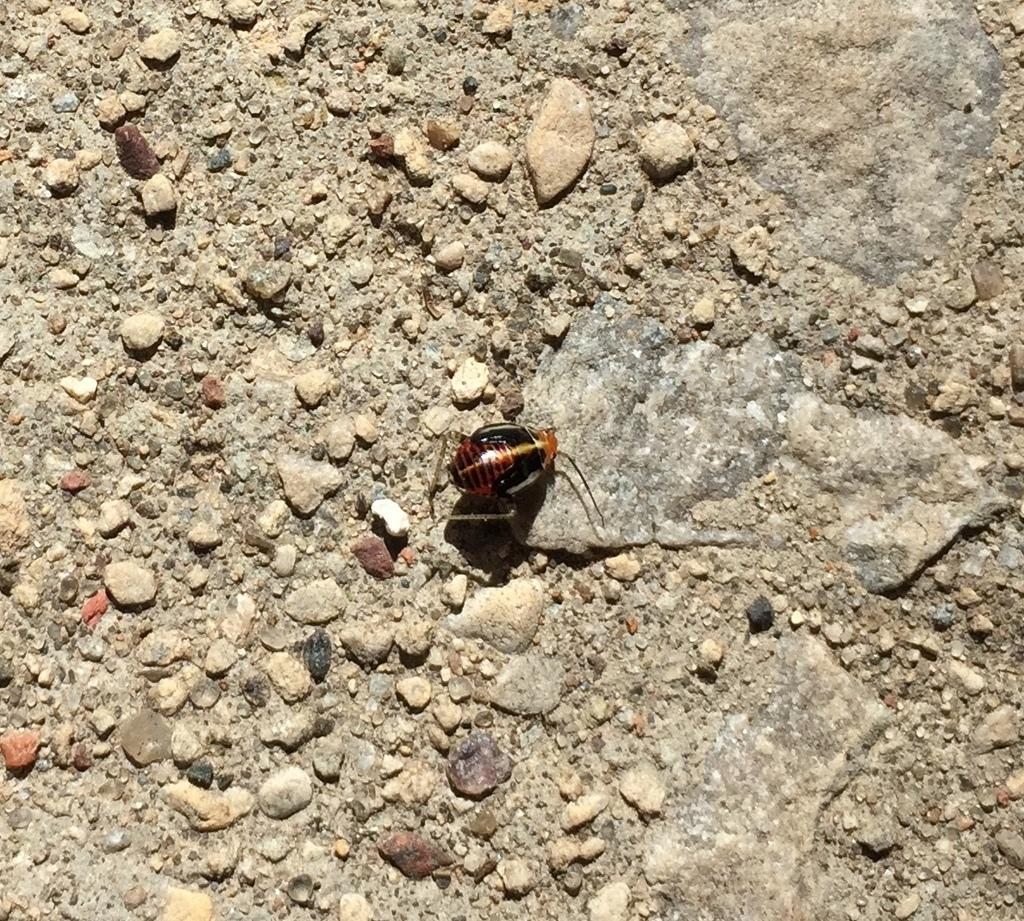plant_bugs: (390, 380, 652, 570)
